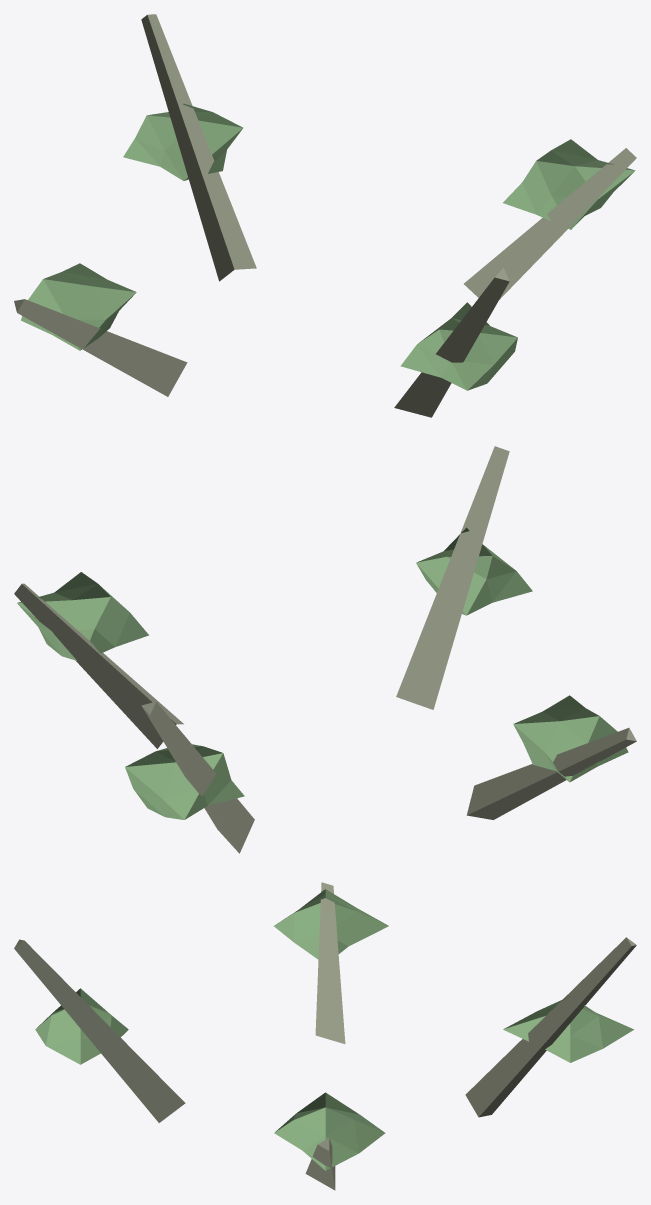
The model's file is bramble_v01.glb.
The picture shows the model from 3 angles, top to bottom: view 1: azimuth 30°, elevation 25°; view 2: azimuth 150°, elevation 25°; view 3: azimuth 270°, elevation 25°; orthographic projection. The views are drawn at different scales.
Visible parts, largest first — view 1: lod0; view 2: lod0; view 3: lod0.
Part boxes in pixels (x1=…): lod0: x1=14, y1=14, x2=636, y2=417; lod0: x1=14, y1=446, x2=636, y2=853; lod0: x1=14, y1=882, x2=636, y2=1190.
Size of what is drawn, in the model's own units: 0.7777 by 0.2535 by 0.7813.
